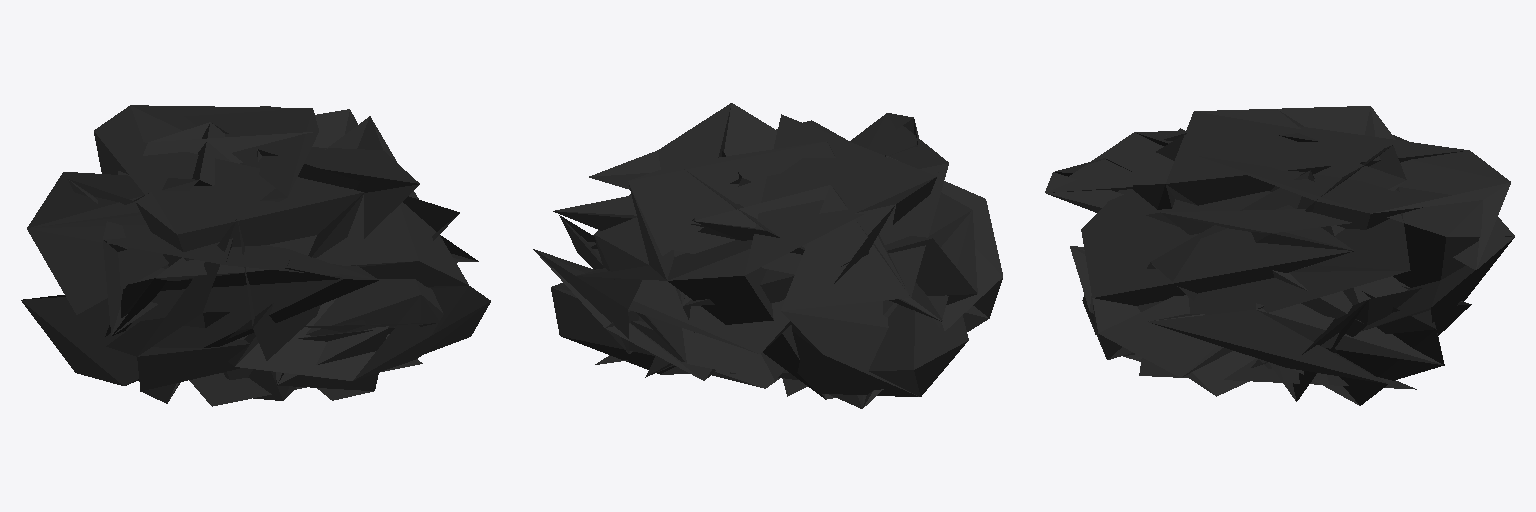
The robot description file, URDF, robot "ball":
<?xml version="1.0" encoding="utf-8"?>
<robot name="ball">
  <link name="base_link">
    <contact>
      <lateral_friction value="0.5"/>
      <rolling_friction value="0.0"/>
      <contact_cfm value="0.0"/>
      <contact_erp value="1.0"/>
    </contact>
    <inertial>
      <origin rpy="0 0 0" xyz="0 0 0"/>
      <mass value="5"/>
      <inertia ixx="0" ixy="0" ixz="0" iyy="0" iyz="0" izz="0"/>
    </inertial>
    <visual>
      <origin rpy="1.57 0 0" xyz="0 0 0"/>
      <geometry>
        <mesh filename="models/meshes/coal/Rock1.obj" scale="0.12 0.12 0.12"/>
      </geometry>
      <material name="tray_material">
        <color rgba="0.2 0.2 0.2 1"/>
      </material>
    </visual>
    <collision>
      <origin rpy="1.57 0 0" xyz="0 0 0"/>
      <geometry>
        <mesh filename="models/meshes/coal/Rock1.obj" scale="0.12 0.12 0.12"/>
      </geometry>
    </collision>
  </link>
</robot>

--- Facts derived from the render (not from the file) ---
Views: 3 orthographic renders of the robot side by side, from view 1: azimuth 30°, elevation 25°; view 2: azimuth 150°, elevation 25°; view 3: azimuth 270°, elevation 25°.
Robot: ball — 1 links, 0 joints (none); root link base_link; default pose: every joint at zero.
Links seen in each view (by area): view 1: base_link; view 2: base_link; view 3: base_link.
Link boxes in pixels (x1,y1,x2,y2): base_link: (21,105,490,406); base_link: (533,103,1002,408); base_link: (1045,106,1514,405).
Size in the robot's own frame: 0.382 by 0.4354 by 0.2021 metres.
1 mesh visuals loaded from 1 distinct referenced files (1 OBJ).